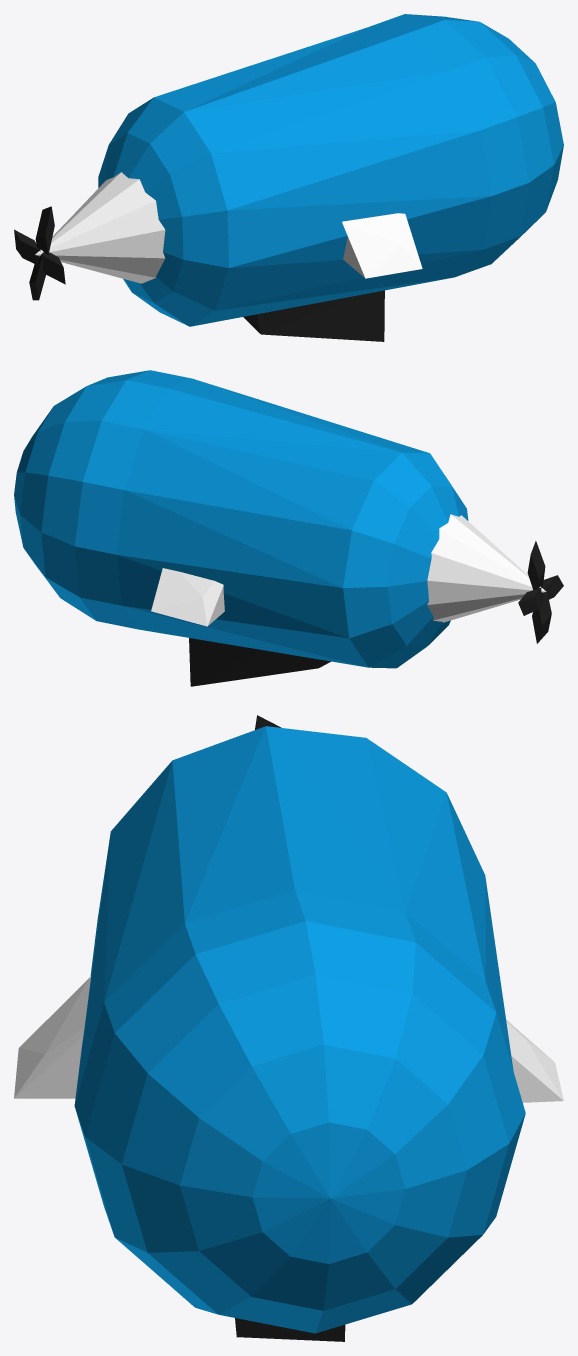
3 views of the same model, one above another, from view 1: azimuth 30°, elevation 25°; view 2: azimuth 150°, elevation 25°; view 3: azimuth 270°, elevation 25° (orthographic). The views are drawn at different scales.
Visible parts, largest first — view 1: mesh_1059747610, mesh_2055591058, mesh_419916546, mesh_892692593, group_2133622709, group_376811727, group_1088095943, group_1855996667; view 2: mesh_1059747610, mesh_2055591058, mesh_419916546, mesh_1606646051, group_1855996667, group_2133622709, group_376811727; view 3: mesh_1059747610, mesh_892692593, mesh_1606646051, mesh_419916546.
Boxes of the visible parts, x1,y1,x2,y2 form: mesh_1059747610: (98,14,563,326); mesh_2055591058: (35,172,165,283); mesh_419916546: (243,290,384,341); mesh_892692593: (342,213,422,278); group_2133622709: (35,206,54,254); group_376811727: (14,229,43,267); group_1088095943: (42,252,65,284); group_1855996667: (29,254,45,300); mesh_1059747610: (14,370,468,668); mesh_2055591058: (427,514,546,622); mesh_419916546: (189,638,330,686); mesh_1606646051: (151,568,224,626); group_1855996667: (532,586,551,643); group_2133622709: (527,541,545,589); group_376811727: (518,587,544,615); mesh_1059747610: (74,726,525,1333); mesh_892692593: (14,977,90,1098); mesh_1606646051: (506,1019,563,1102); mesh_419916546: (235,1318,345,1341).
Bounding box in the file's own units: 56.09 × 29.61 × 30.45.
